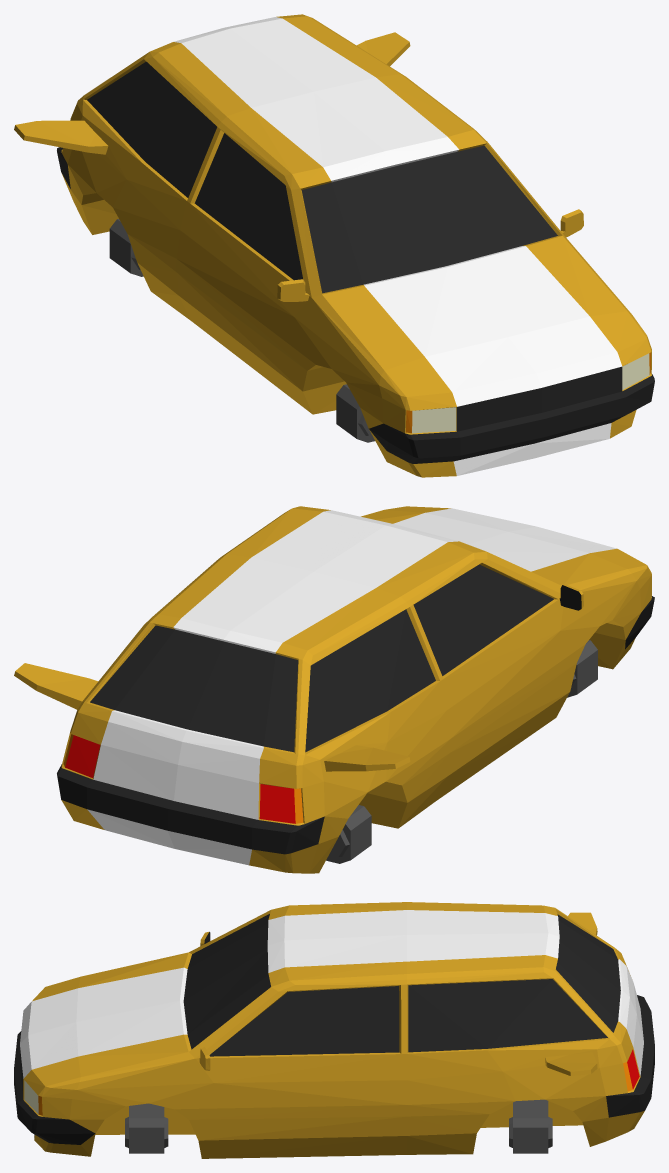
Rendered from Proto_Vehicle_Car_Flying_Cyber_Retrofit_Body_01.fbx.
3 renders of one model, top to bottom at view 1: azimuth 30°, elevation 25°; view 2: azimuth 150°, elevation 25°; view 3: azimuth 270°, elevation 25°, orthographic. The views are drawn at different scales.
Visible parts, largest first — view 1: Proto_Vehicle_Car_Flying_Cyber_Retrofit_Body_01; view 2: Proto_Vehicle_Car_Flying_Cyber_Retrofit_Body_01; view 3: Proto_Vehicle_Car_Flying_Cyber_Retrofit_Body_01.
Part boxes in pixels (box(x1,y1,x2,y2)): Proto_Vehicle_Car_Flying_Cyber_Retrofit_Body_01: box(14, 14, 654, 477); Proto_Vehicle_Car_Flying_Cyber_Retrofit_Body_01: box(14, 506, 654, 873); Proto_Vehicle_Car_Flying_Cyber_Retrofit_Body_01: box(14, 902, 654, 1158).
Size of the model in its own units: 2.49 by 1.3 by 4.21.
